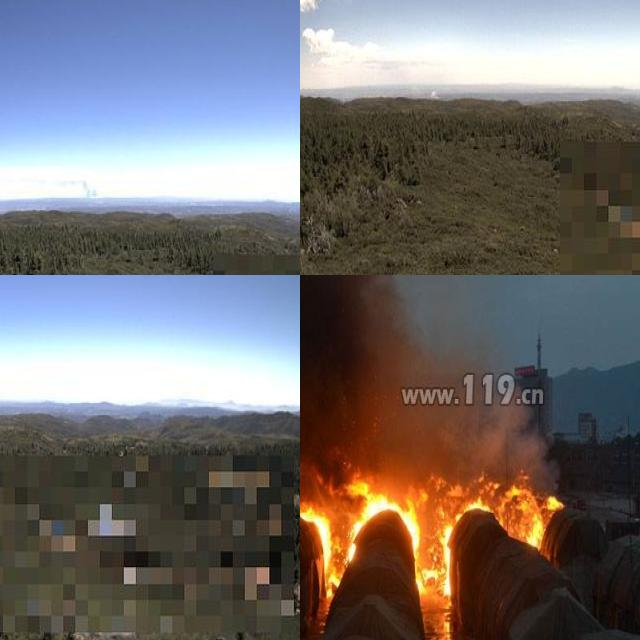fire: (432, 469, 568, 598), (341, 471, 423, 579), (300, 482, 336, 575)
smoke: (300, 275, 552, 464), (55, 174, 103, 199), (423, 78, 443, 98)
